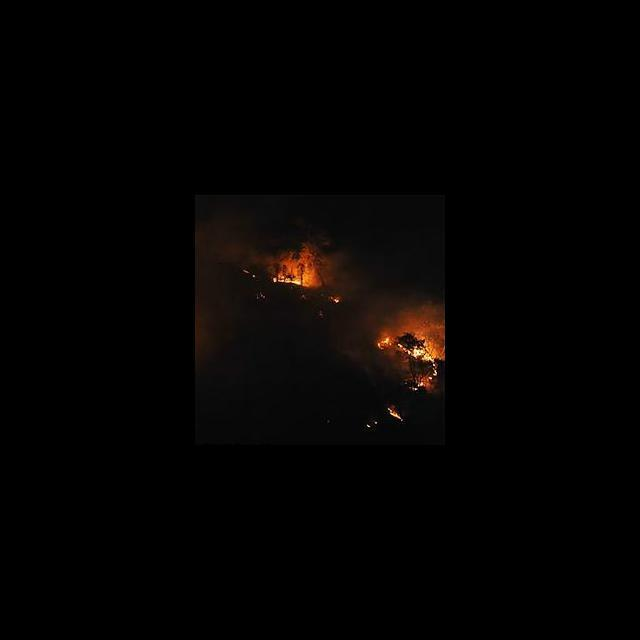Fire: (374, 328, 438, 366), (269, 250, 307, 286), (386, 406, 403, 422)
